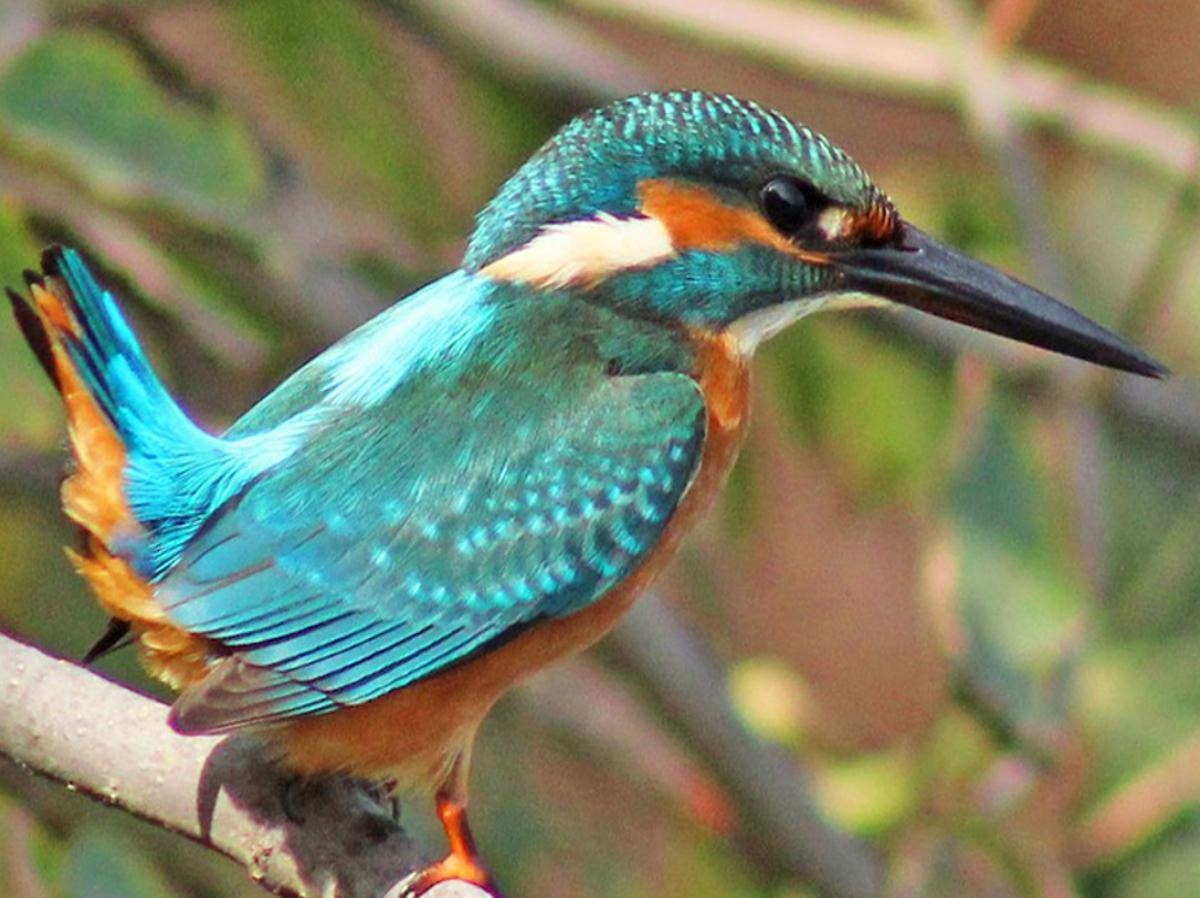kingfisher: (34, 80, 1151, 865)
